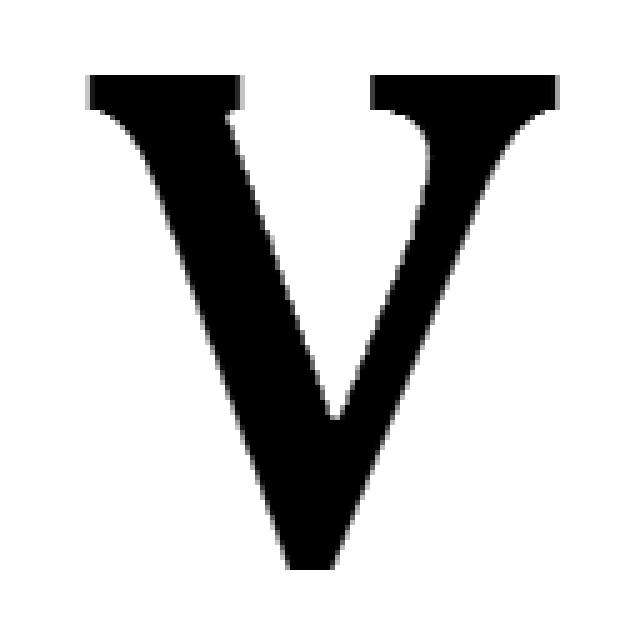V: (80, 60, 565, 570)
